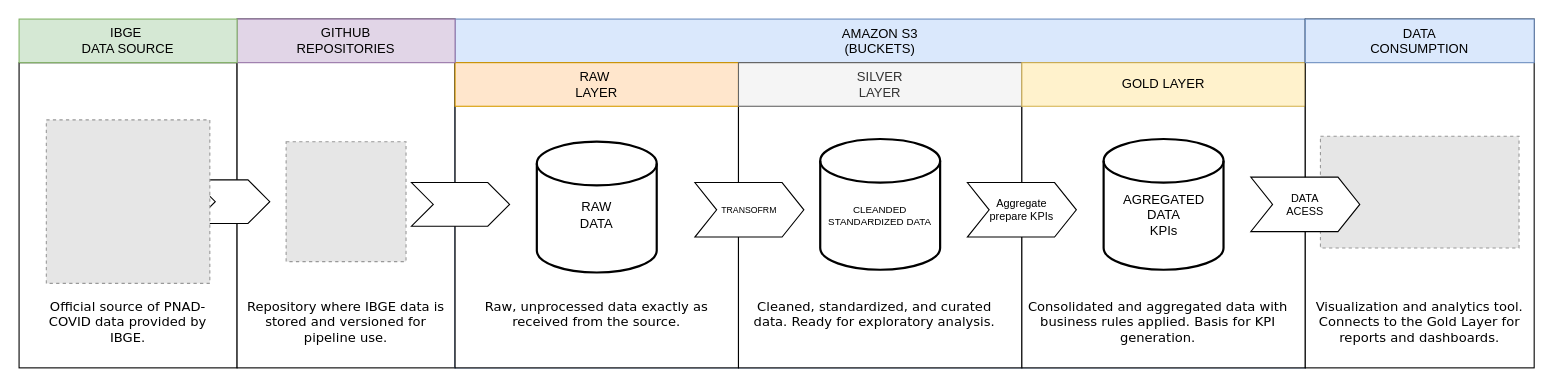
This 1553x387 diagram has some shape labels left out. Grey dashed boxes stand in for pictures. Here are the shapes that lost their labels. From the top down, the centre of each, then its label:
the point at 231,201: SAVE
the point at 460,203: EXTRACT
